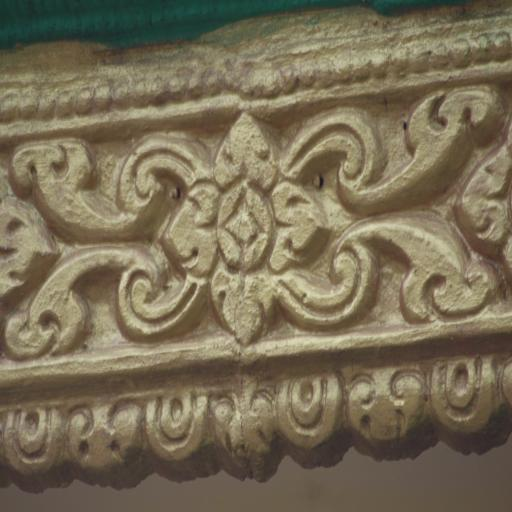hoa: (170, 109, 310, 339)
la: (310, 109, 512, 308), (0, 122, 176, 348), (346, 362, 430, 462), (430, 359, 512, 458), (279, 364, 348, 472), (67, 395, 150, 480), (211, 384, 281, 484), (0, 402, 71, 489), (147, 392, 211, 476)
